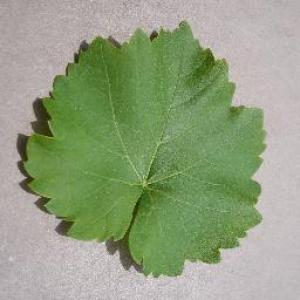Folha: (19, 19, 267, 278)
